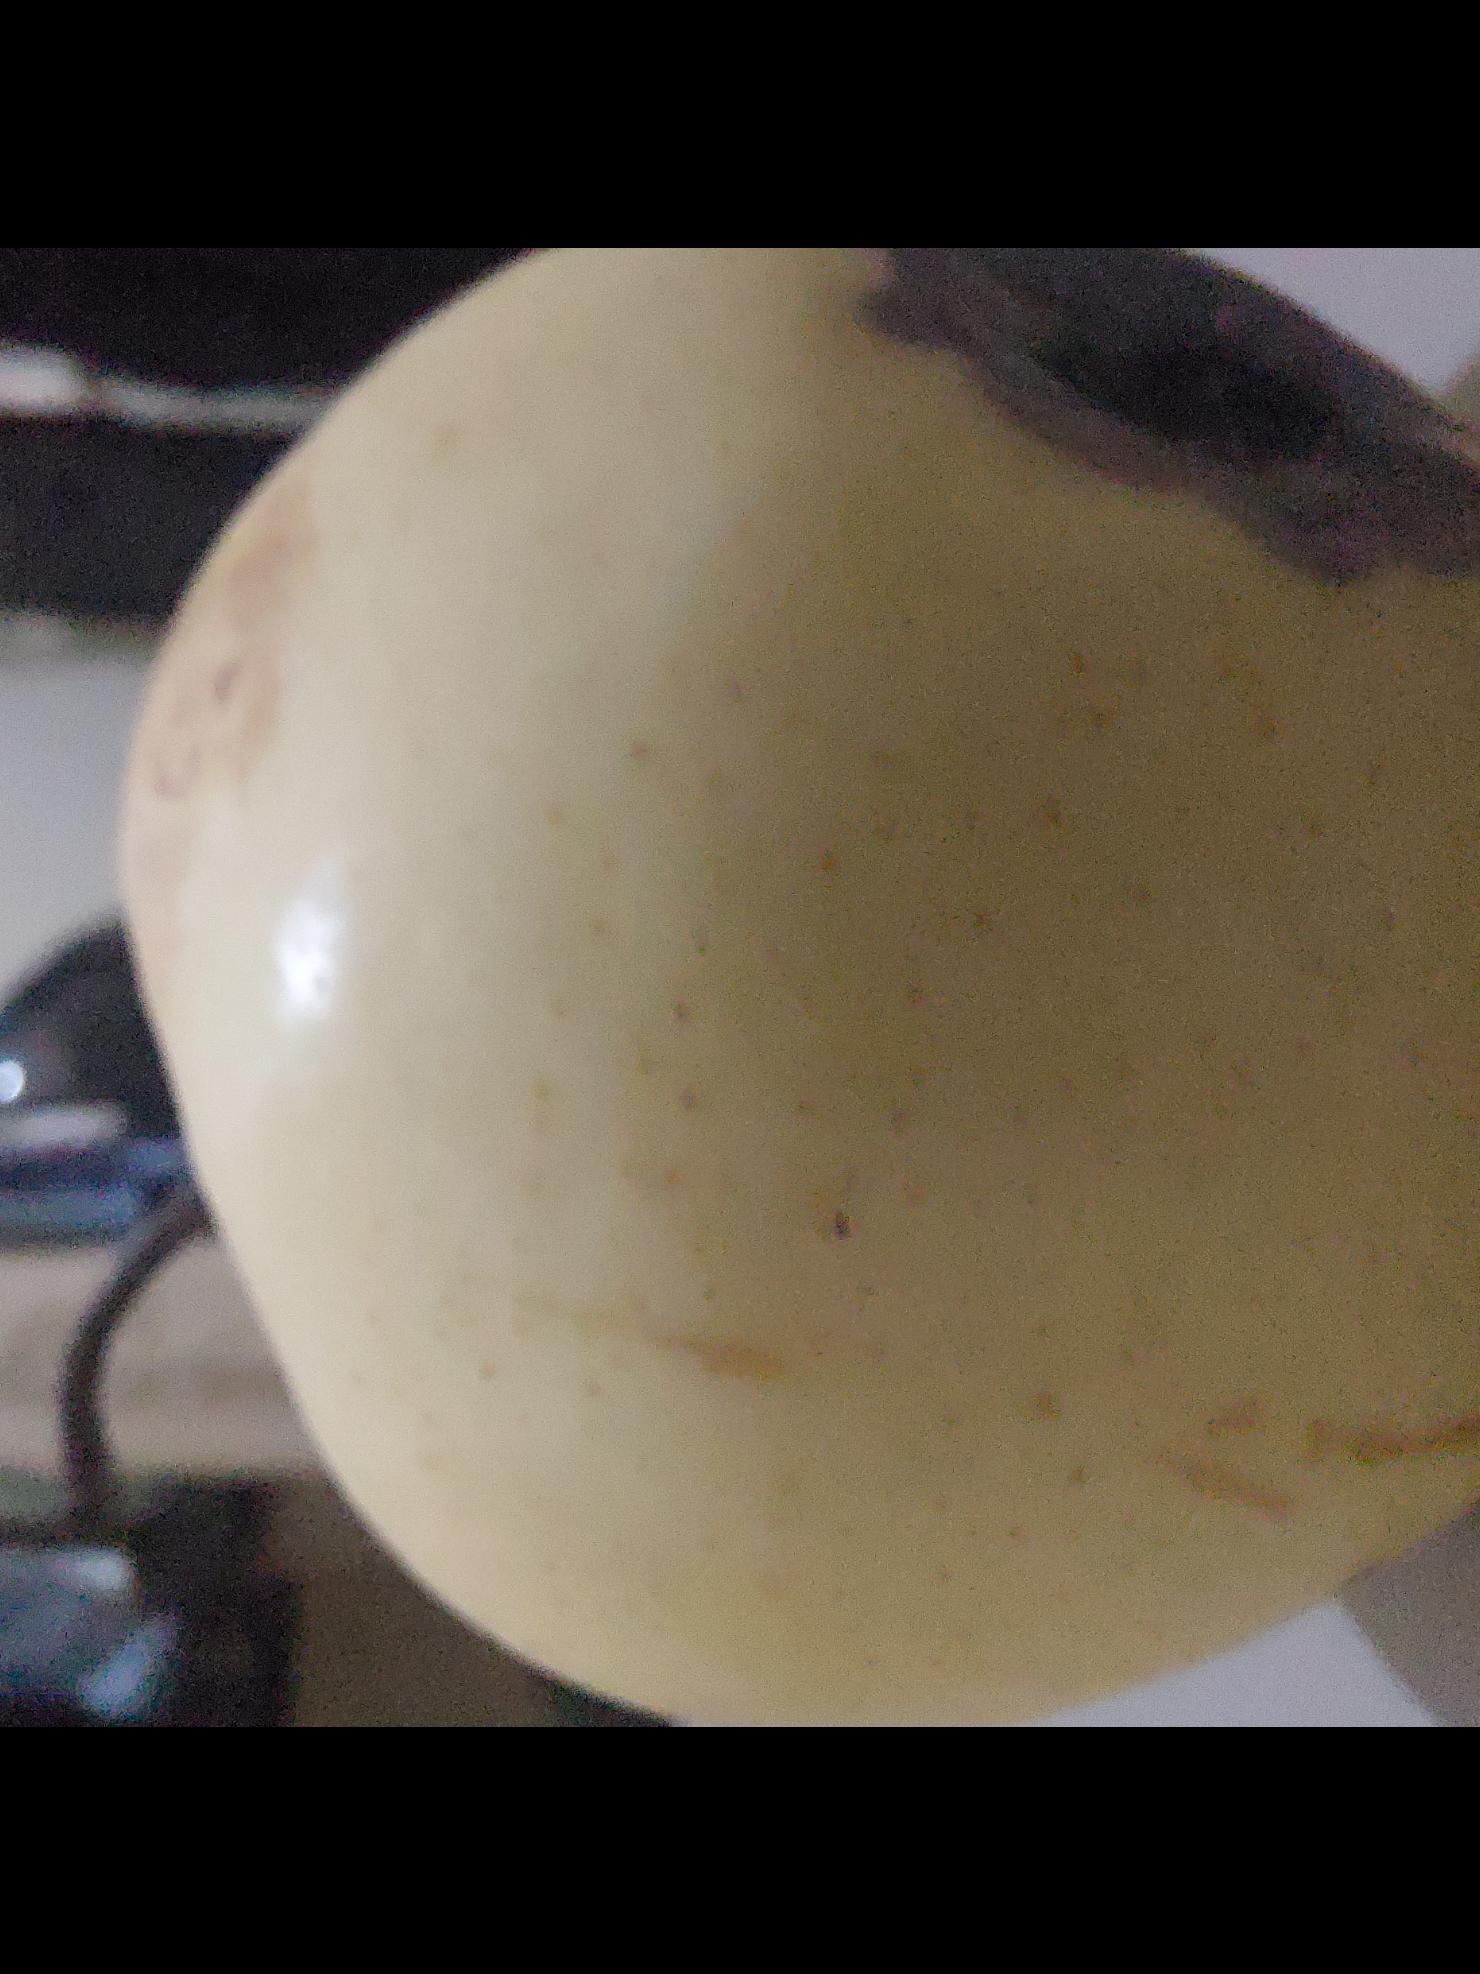Bad Pear: (117, 247, 1480, 1727)
